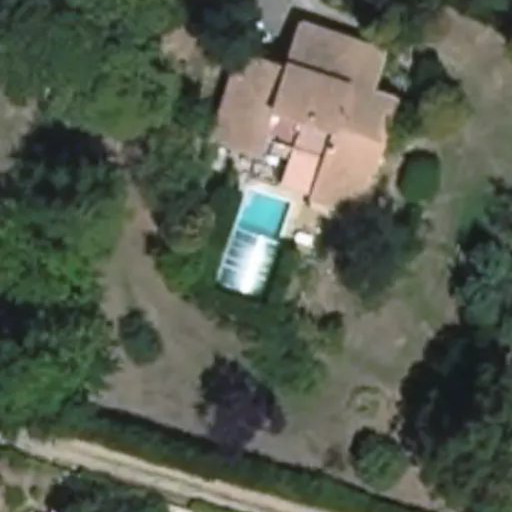pool: (215, 191, 293, 298)
